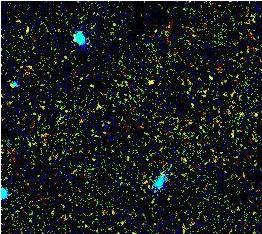star: (134, 69, 164, 99)
